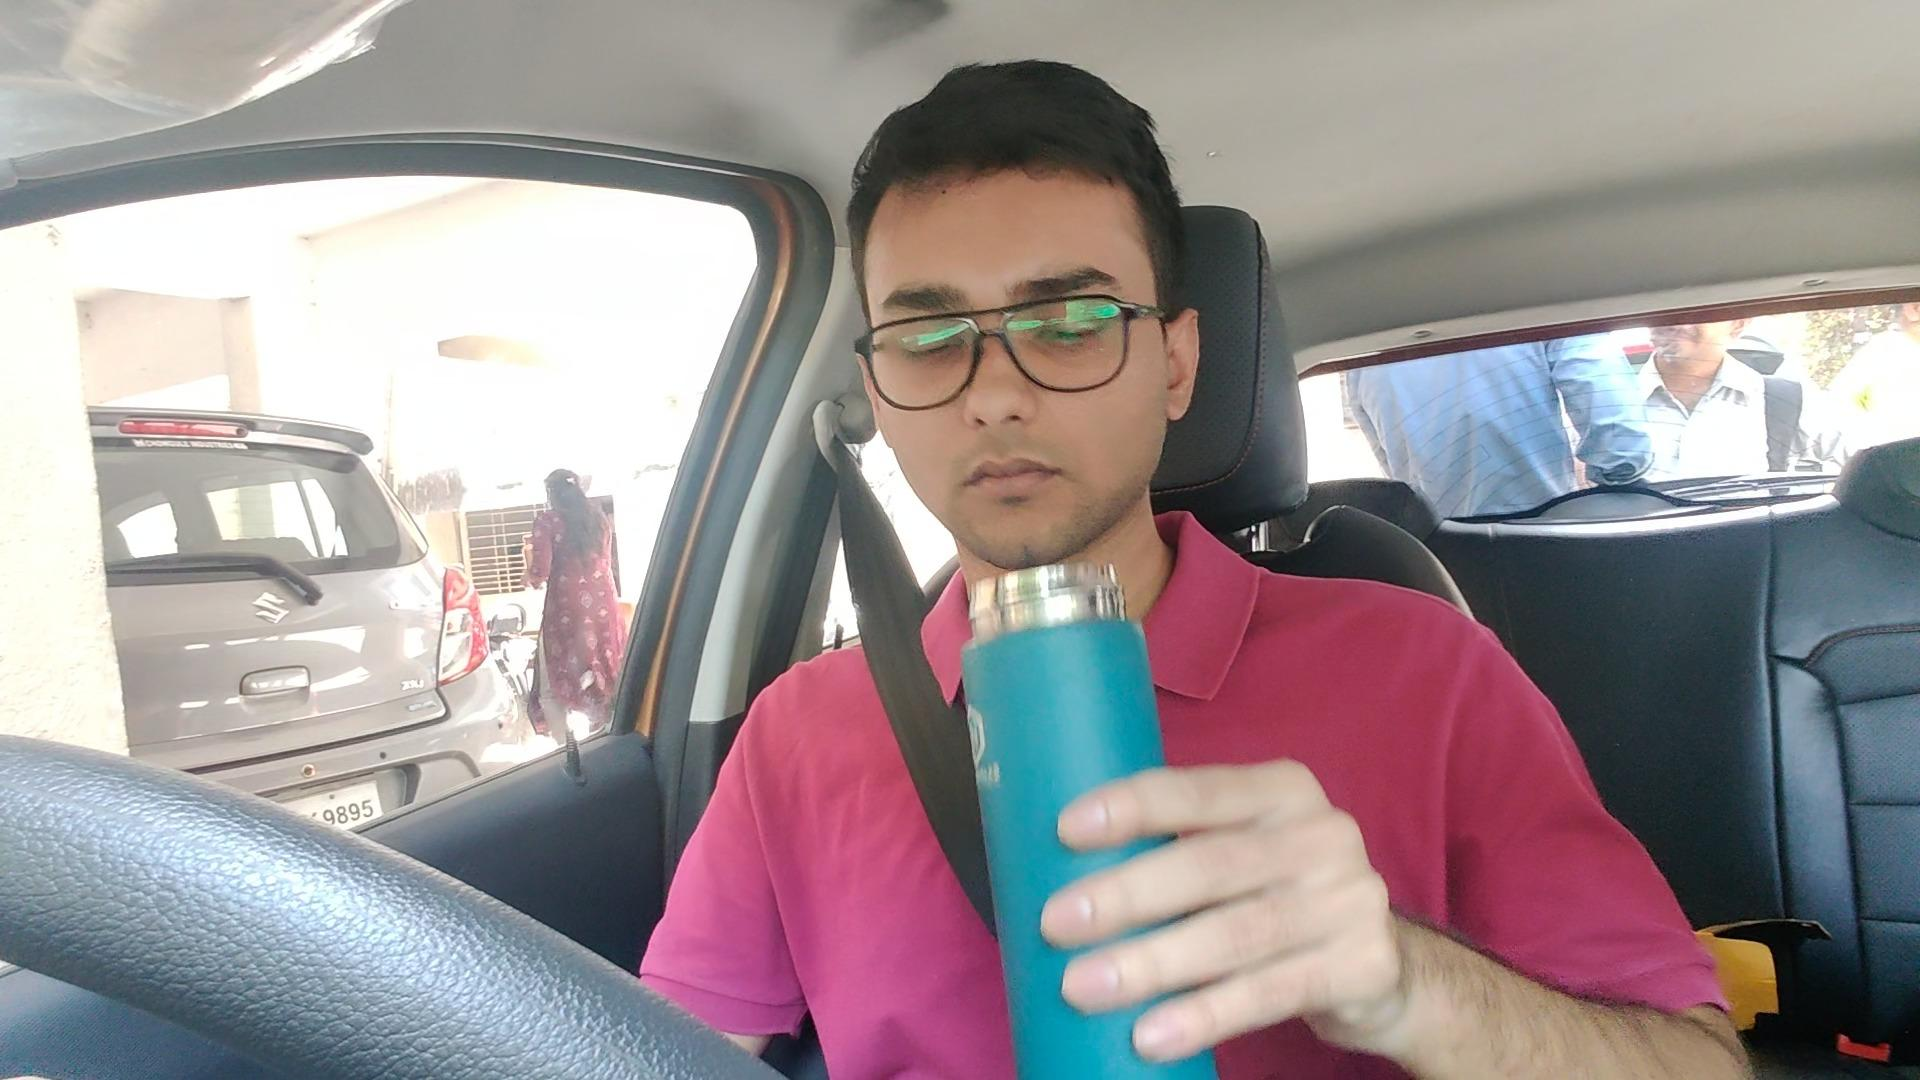Drinking: (852, 177, 1379, 1056)
